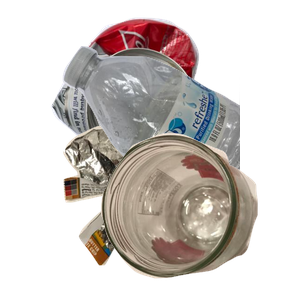glass: (98, 131, 300, 300)
metal: (48, 15, 251, 175)
plastic: (60, 44, 300, 224)
trash: (61, 123, 273, 300)
